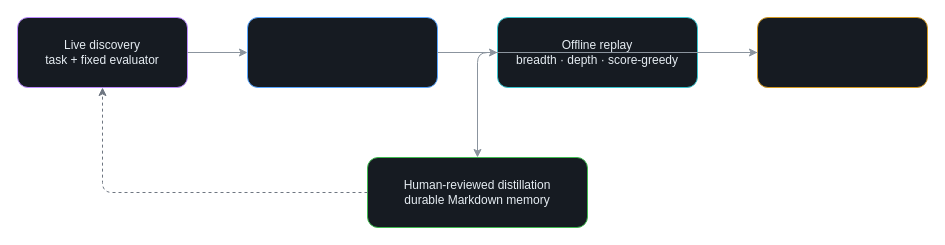
The diagram is 945 pixels wide and 245 high, and some of its shapes have lost their labels. Each missing label, with the centre of its shape:
"Experience trace proposals + grounded results" belongs at point (342, 52).
"Policy evidence budget · cost · holdout" belongs at point (842, 52).
